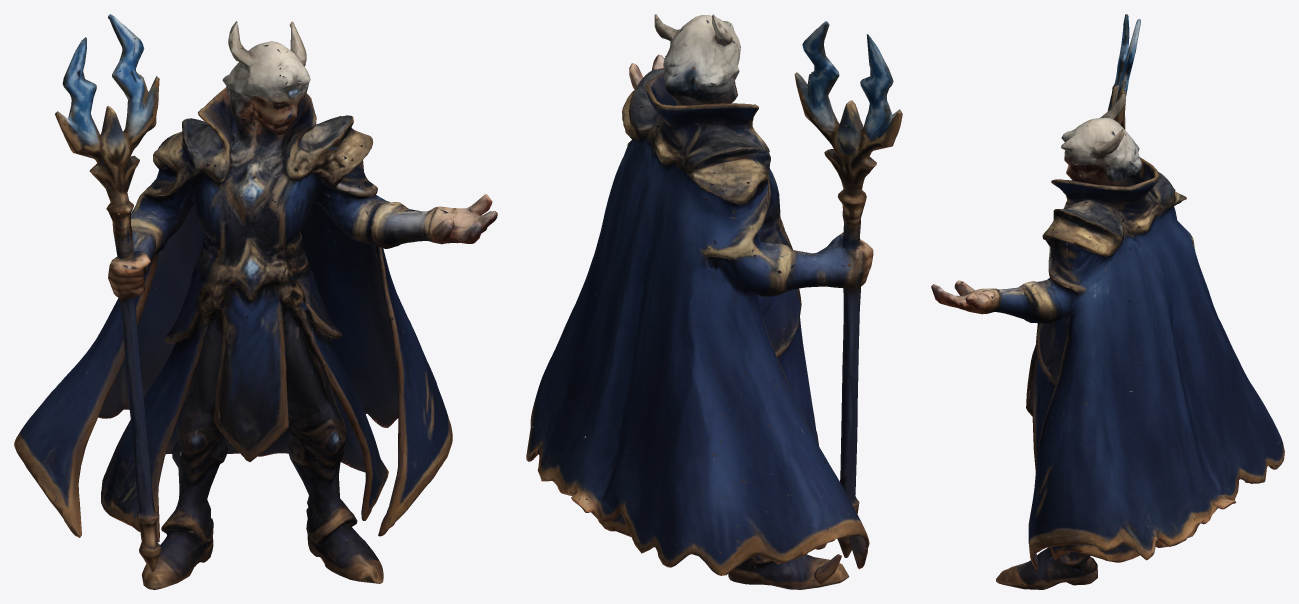
The model's file is mage_chaine.glb.
The picture shows the model from 3 angles, left to right: view 1: azimuth 30°, elevation 25°; view 2: azimuth 150°, elevation 25°; view 3: azimuth 270°, elevation 25°; orthographic projection. The views are drawn at different scales.
Bounding box in the file's own units: 0.6888 × 0.9998 × 0.6614.
1 material, 1 textured.
